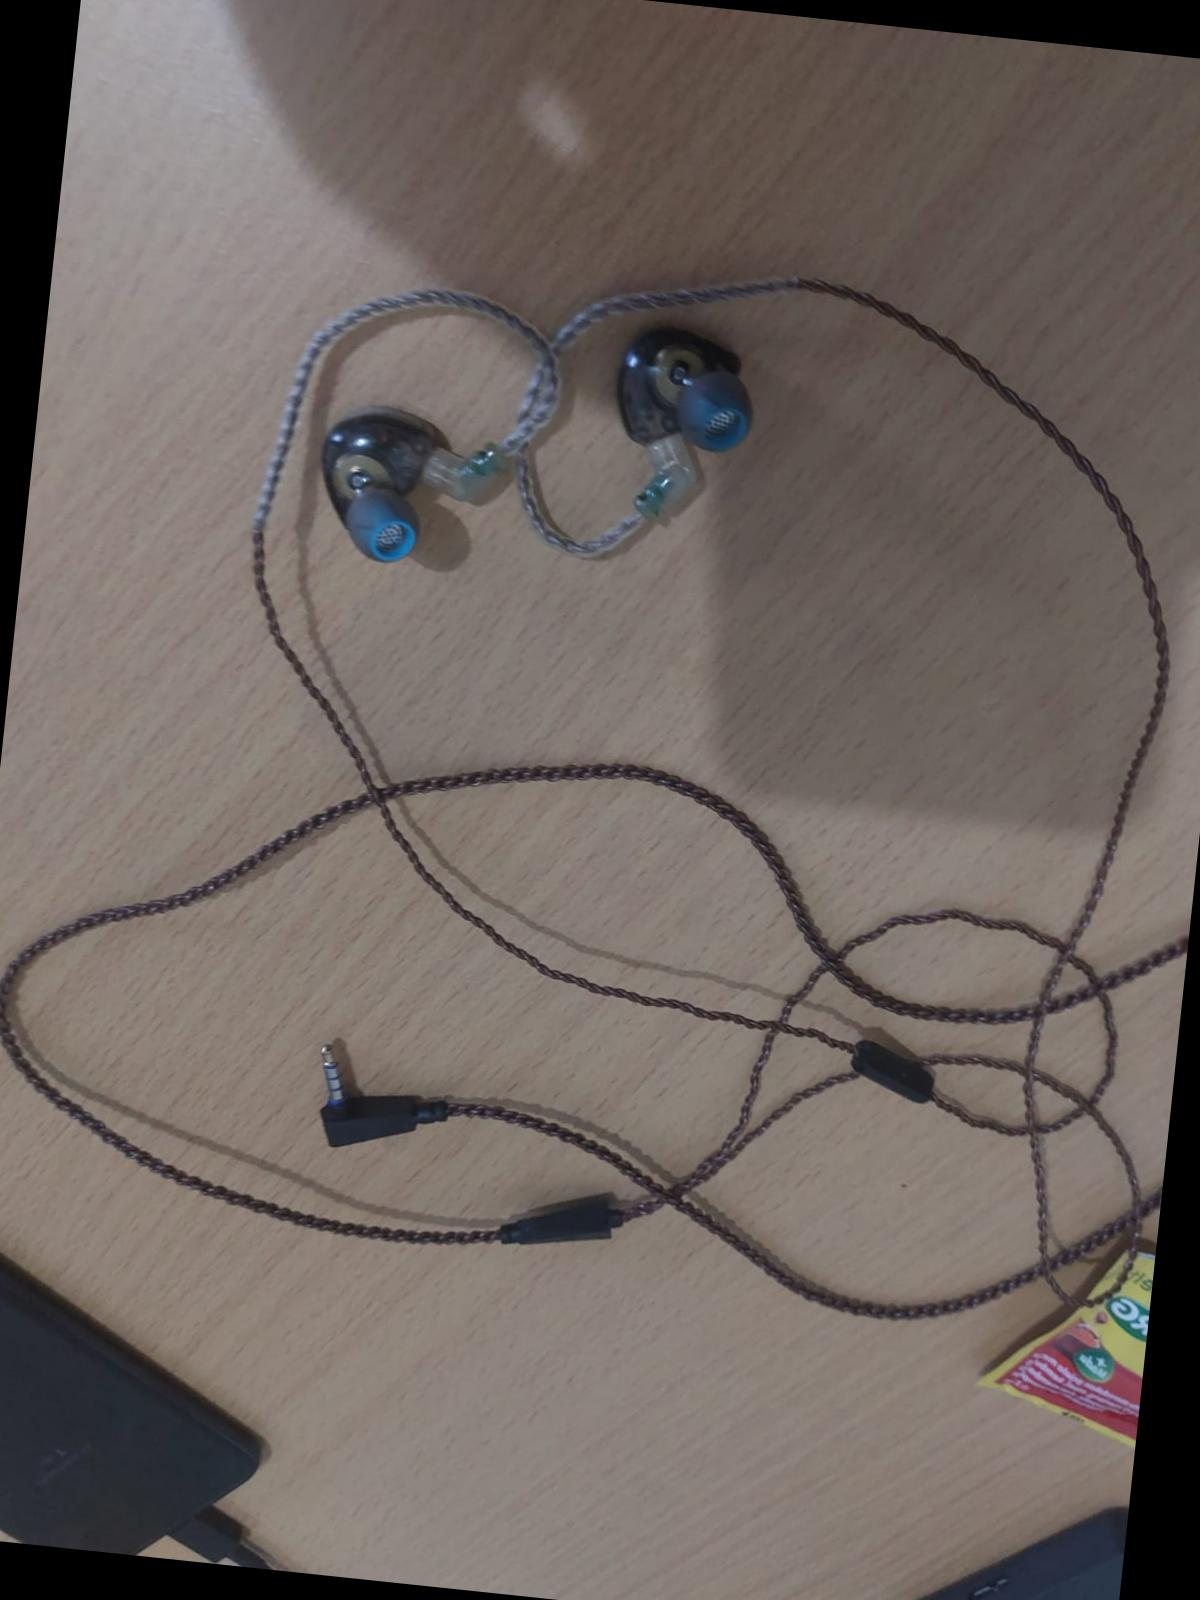Earphone: (595, 281, 792, 530), (285, 368, 498, 585)
